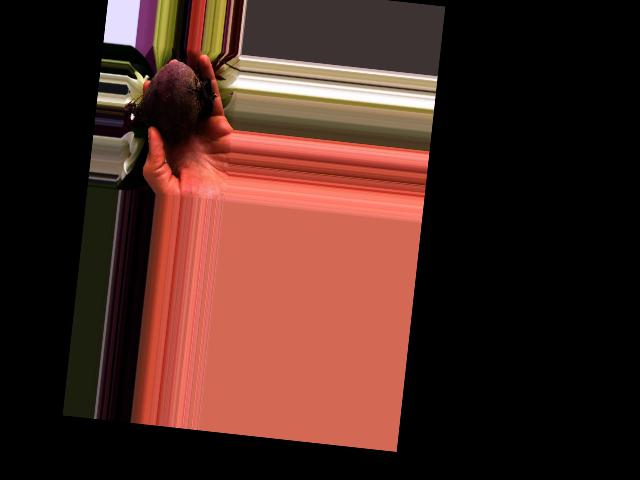beet: (121, 55, 220, 144)
